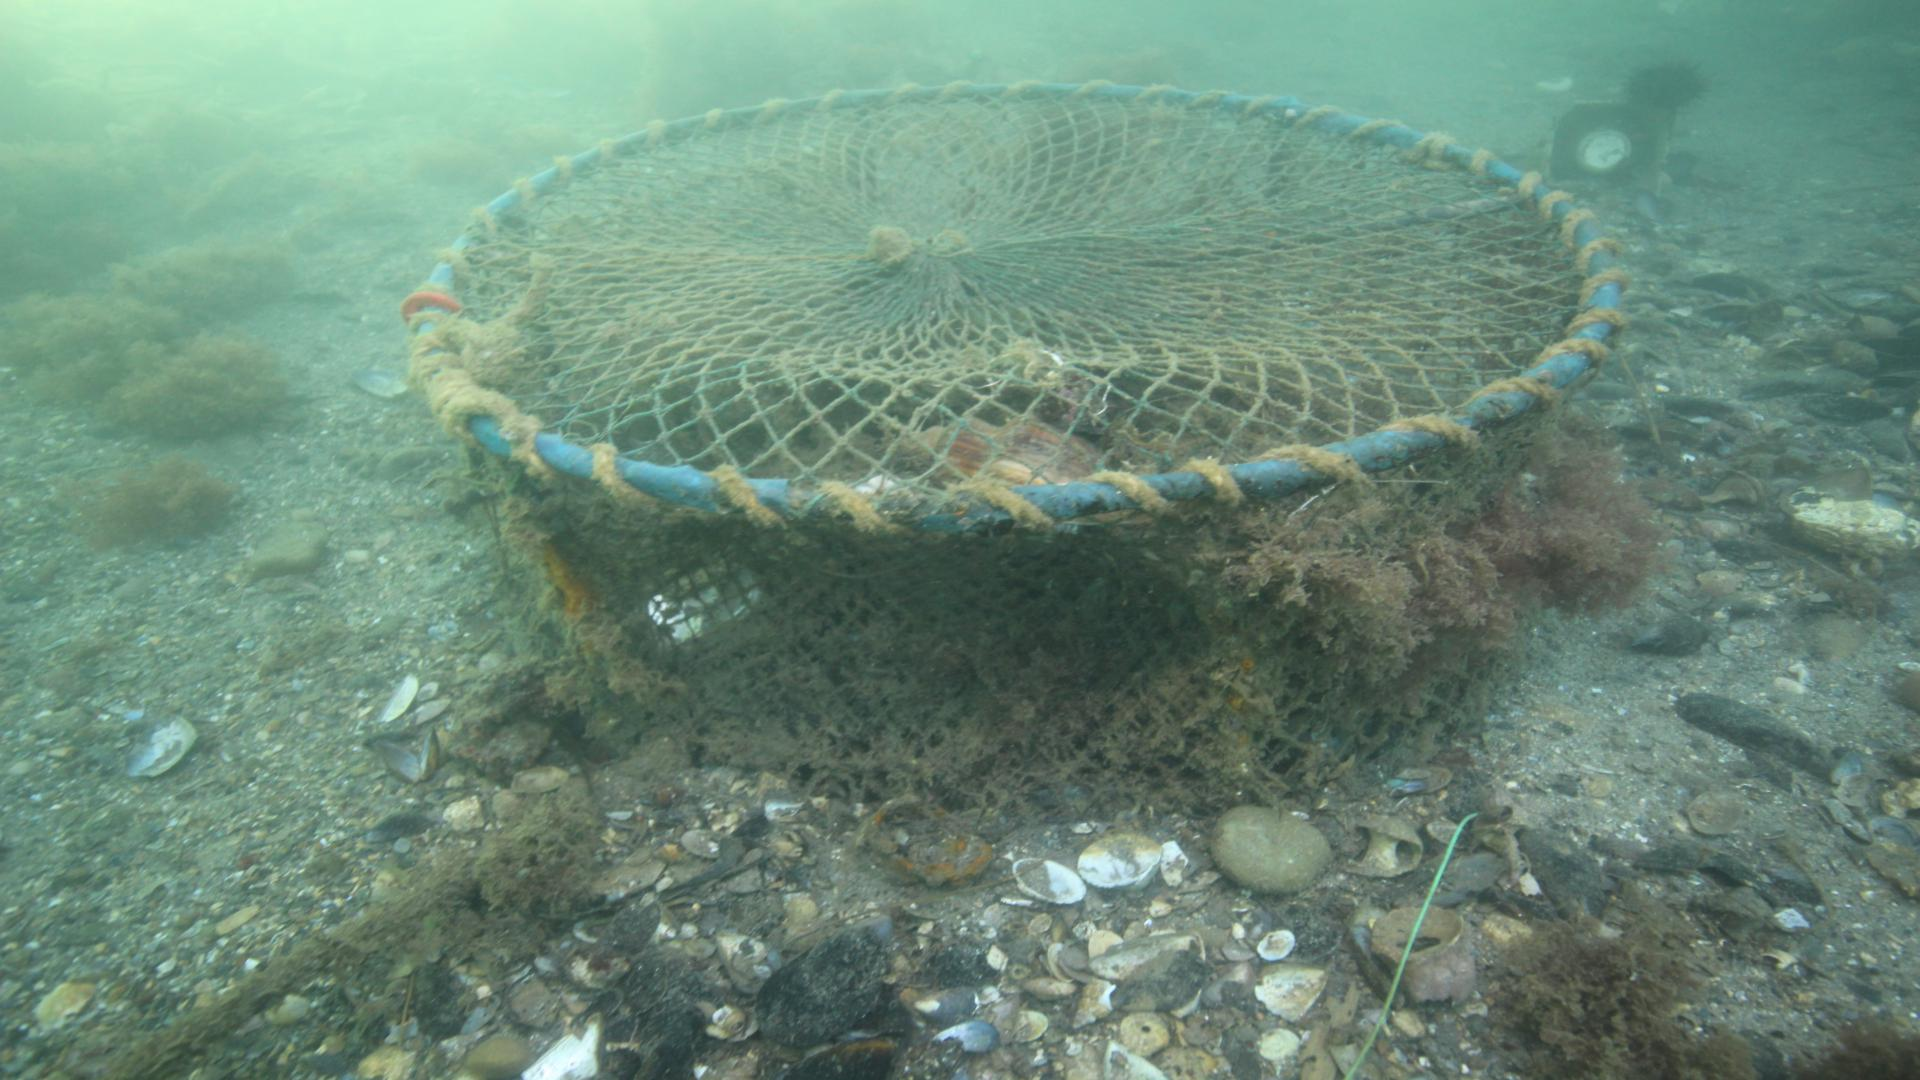circular fish trap: (397, 76, 1633, 823)
